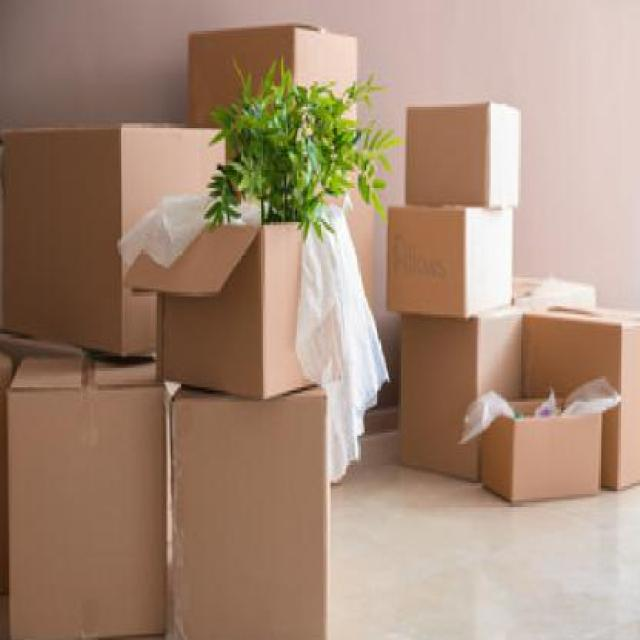box: (0, 117, 232, 376), (3, 355, 165, 640), (132, 195, 366, 390), (164, 387, 336, 640), (174, 20, 363, 212), (396, 300, 530, 528), (523, 303, 640, 499), (482, 388, 609, 514), (386, 200, 516, 320), (403, 88, 526, 209)
